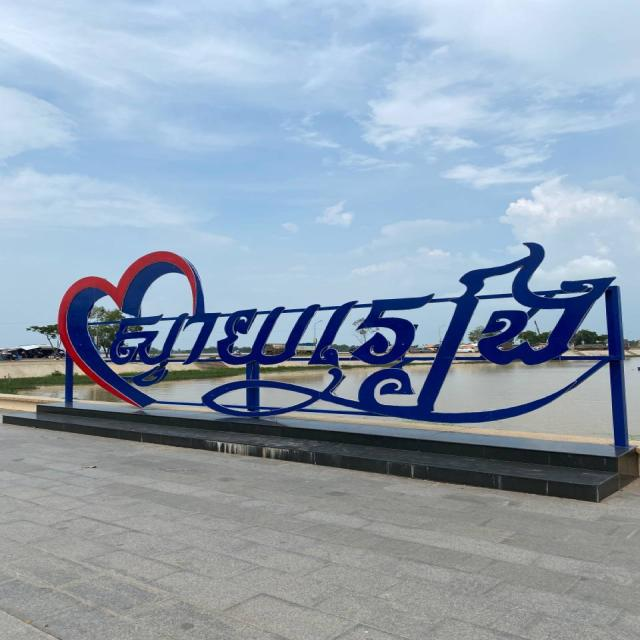Yolov11kh: (102, 233, 616, 438)
